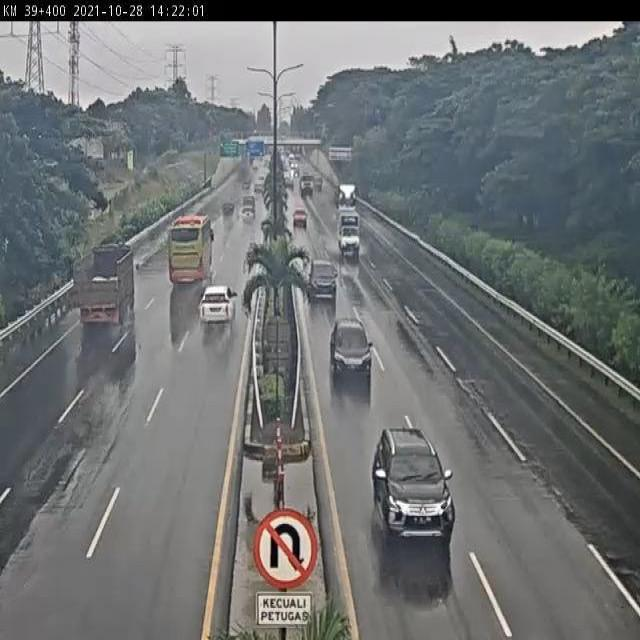big bus: (165, 214, 216, 290)
car: (369, 423, 457, 544), (326, 319, 375, 377), (196, 284, 240, 332), (308, 255, 338, 304)
truck-l-: (72, 242, 135, 330)
truck-s-: (338, 212, 362, 255)
